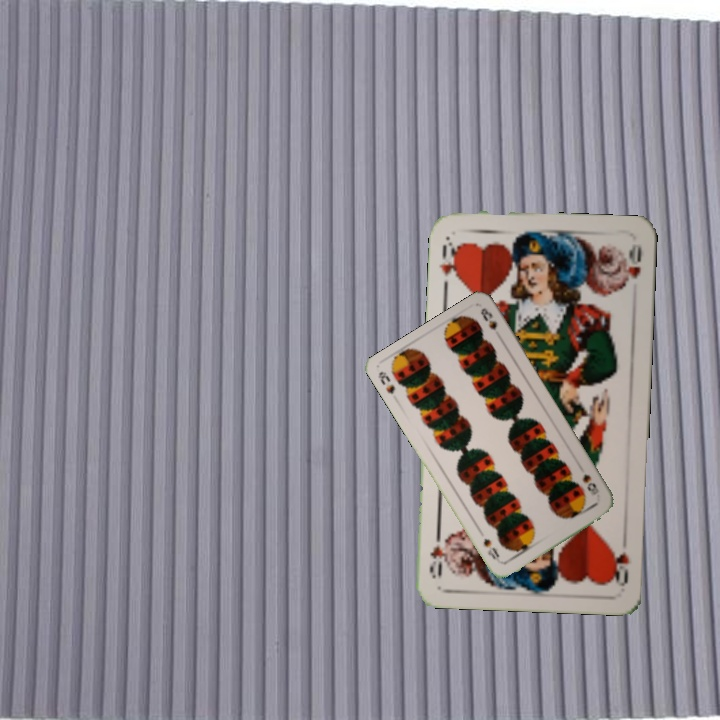HO: (608, 530, 632, 589), (435, 233, 462, 282)
S8: (374, 367, 398, 397), (578, 470, 602, 498)
